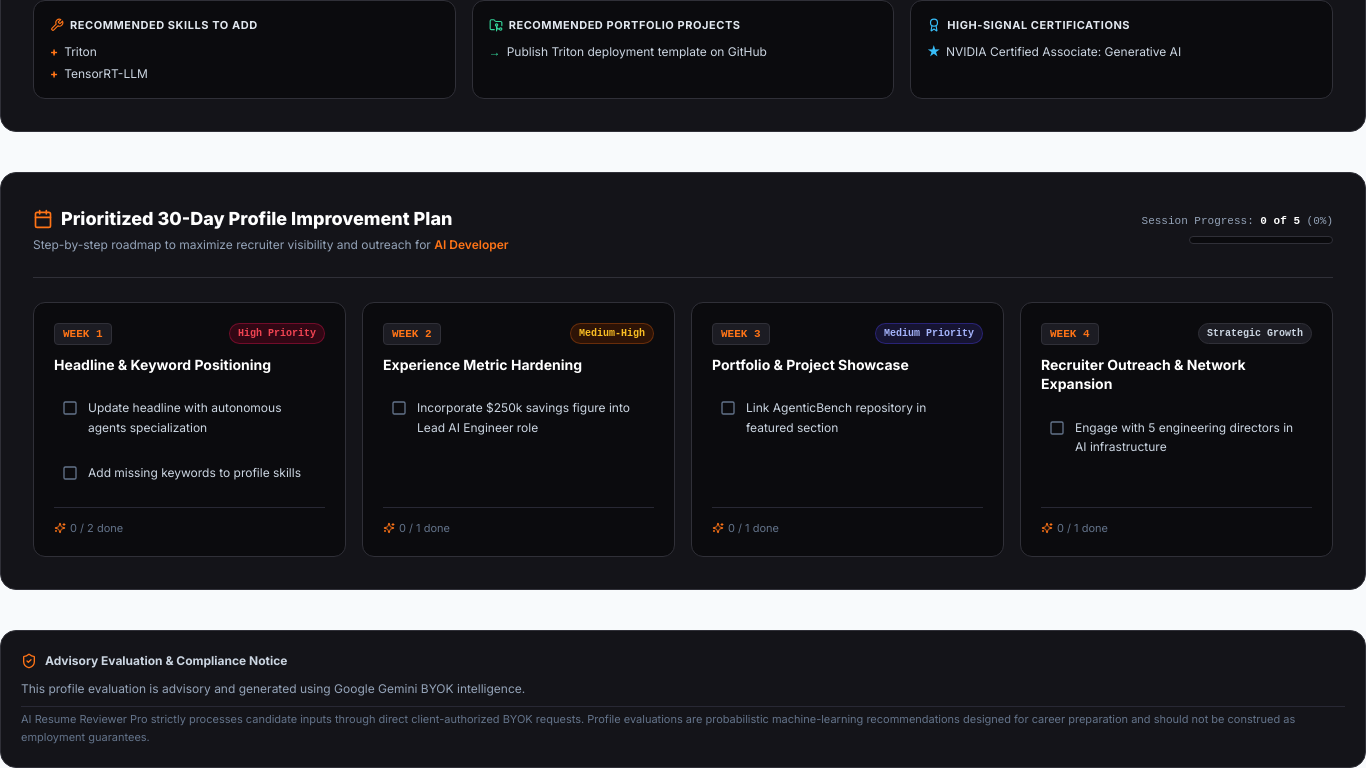
Test: AnalysisDashboard and Subcomponents › interacts with interactive career action plan and calculates progress
(page scrolled)
Expected: the heading "Prioritized 30-Day Profile Improvement Plan" is shown, [61,204,452,232]
Expected: the text "WEEK 1" is shown, [54,322,112,345]
Note: Click first action item
Click the button "Update headline with autonomous agents specialization" at (190, 418), box [54,390,325,445]
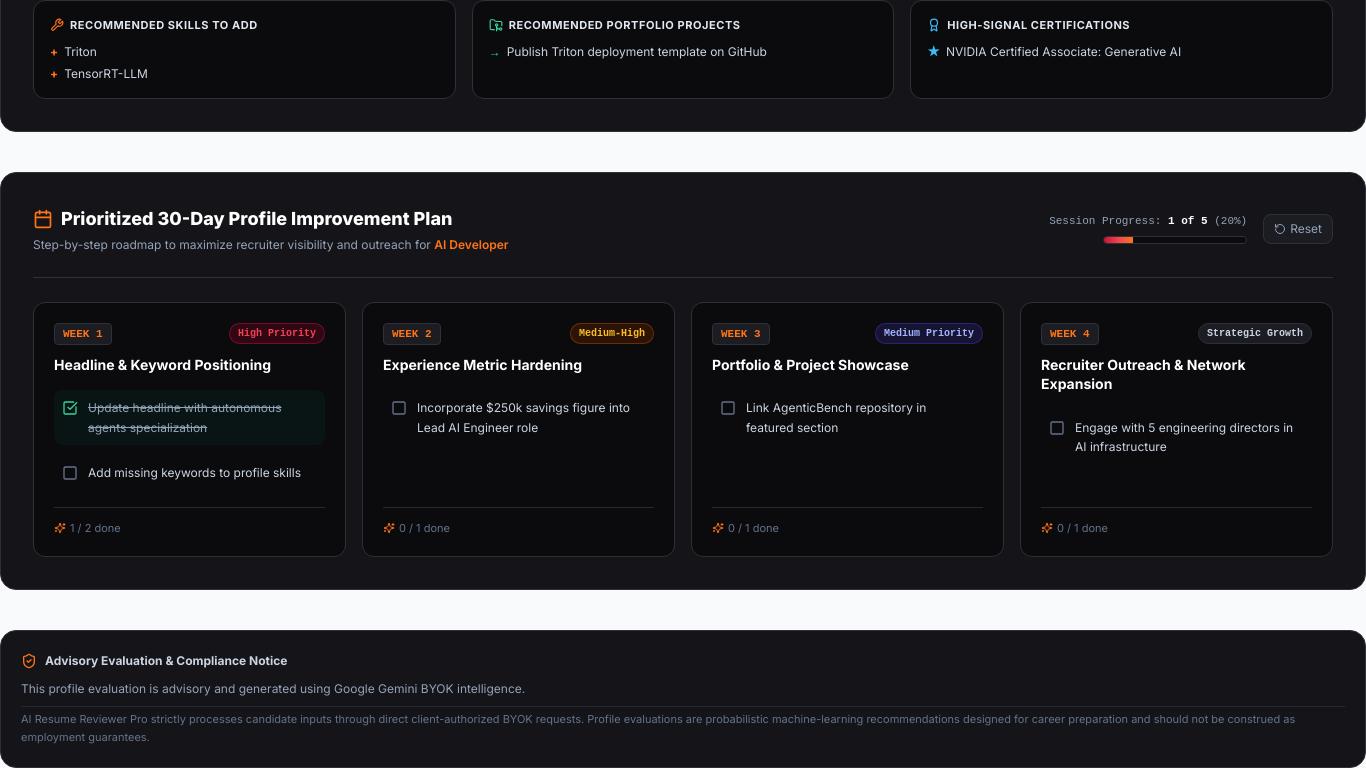
Expected: the text "1 of 5" is shown, [1168,215,1208,227]
Expected: the button "Reset" is shown
Note: Click reset button
Click the button "Reset" at (1298, 228), box [1263,214,1333,244]
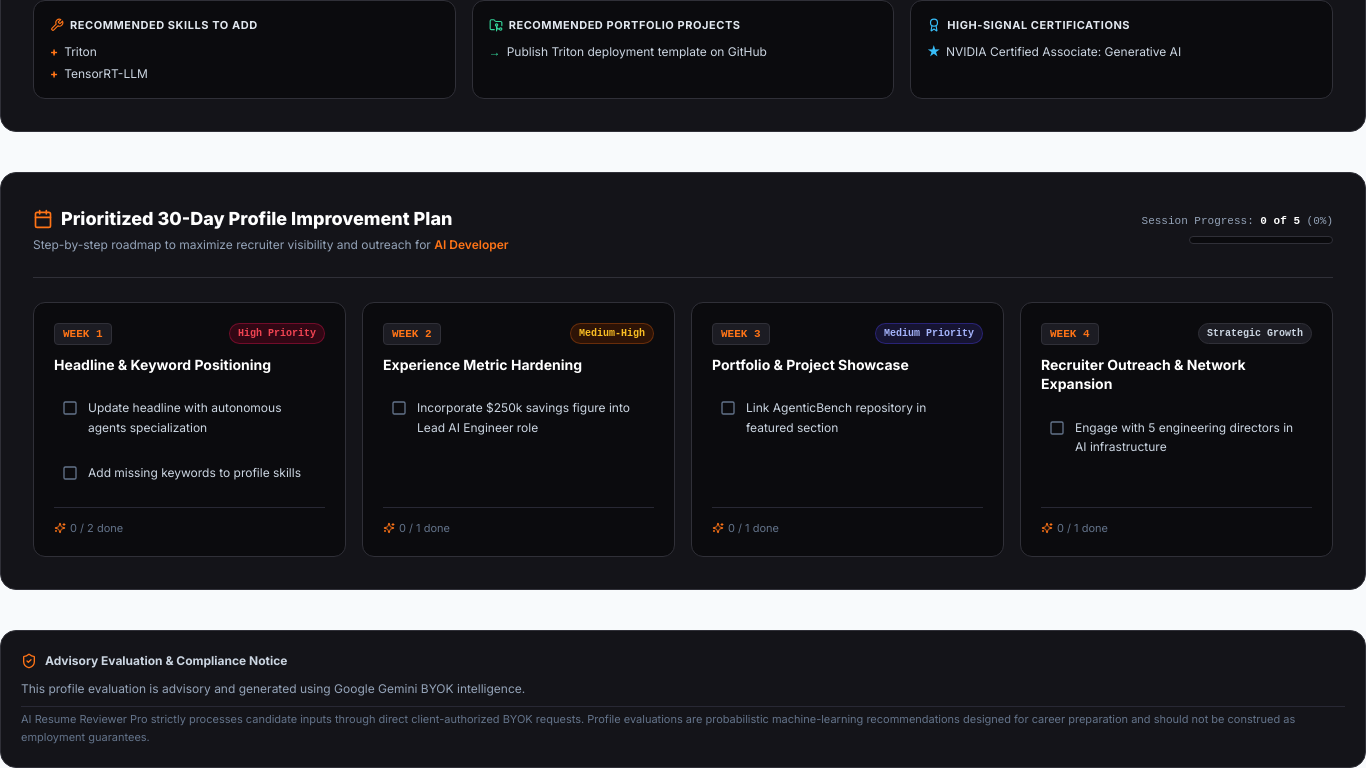
Expected: the text "0 of 5" is shown, [1260,215,1300,227]
